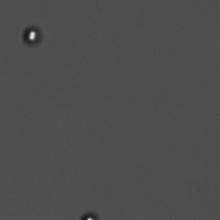Living Cell: (19, 22, 45, 46)
